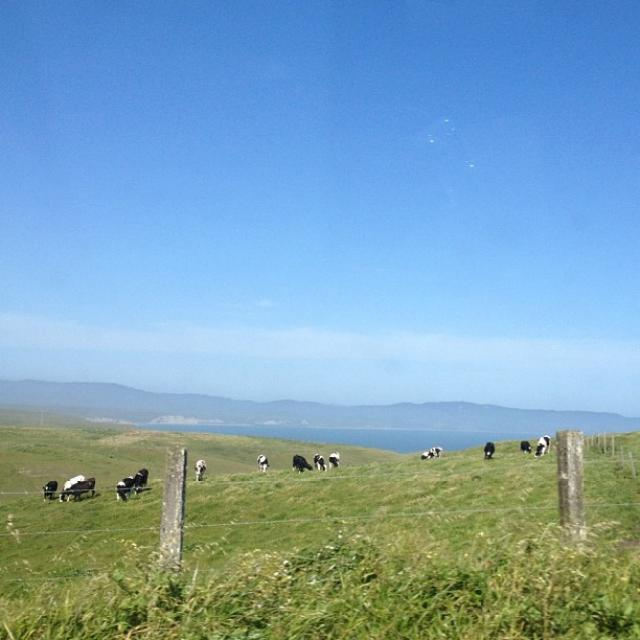cow: (416, 442, 495, 460), (63, 476, 95, 501), (58, 473, 84, 502), (113, 475, 132, 501), (291, 453, 313, 473), (131, 467, 147, 494), (534, 433, 549, 456), (42, 479, 56, 500), (193, 458, 205, 481), (312, 452, 326, 471), (256, 453, 268, 472), (327, 449, 338, 468), (425, 446, 441, 458), (519, 439, 530, 453)
